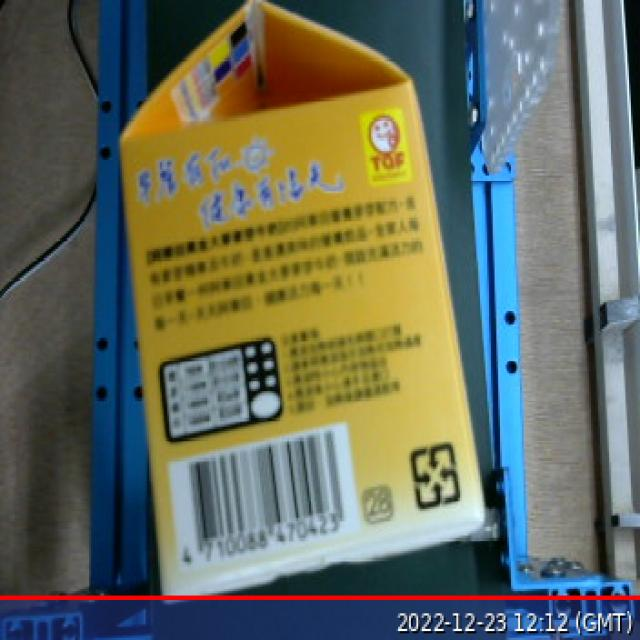non_white_jug: (95, 0, 519, 621)
